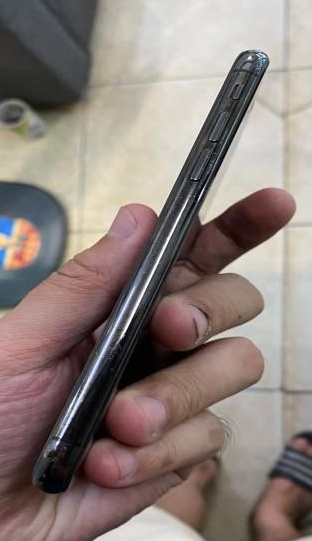scratch: (25, 408, 106, 489), (104, 269, 200, 332), (70, 333, 139, 410), (168, 144, 224, 212), (202, 74, 252, 143)
